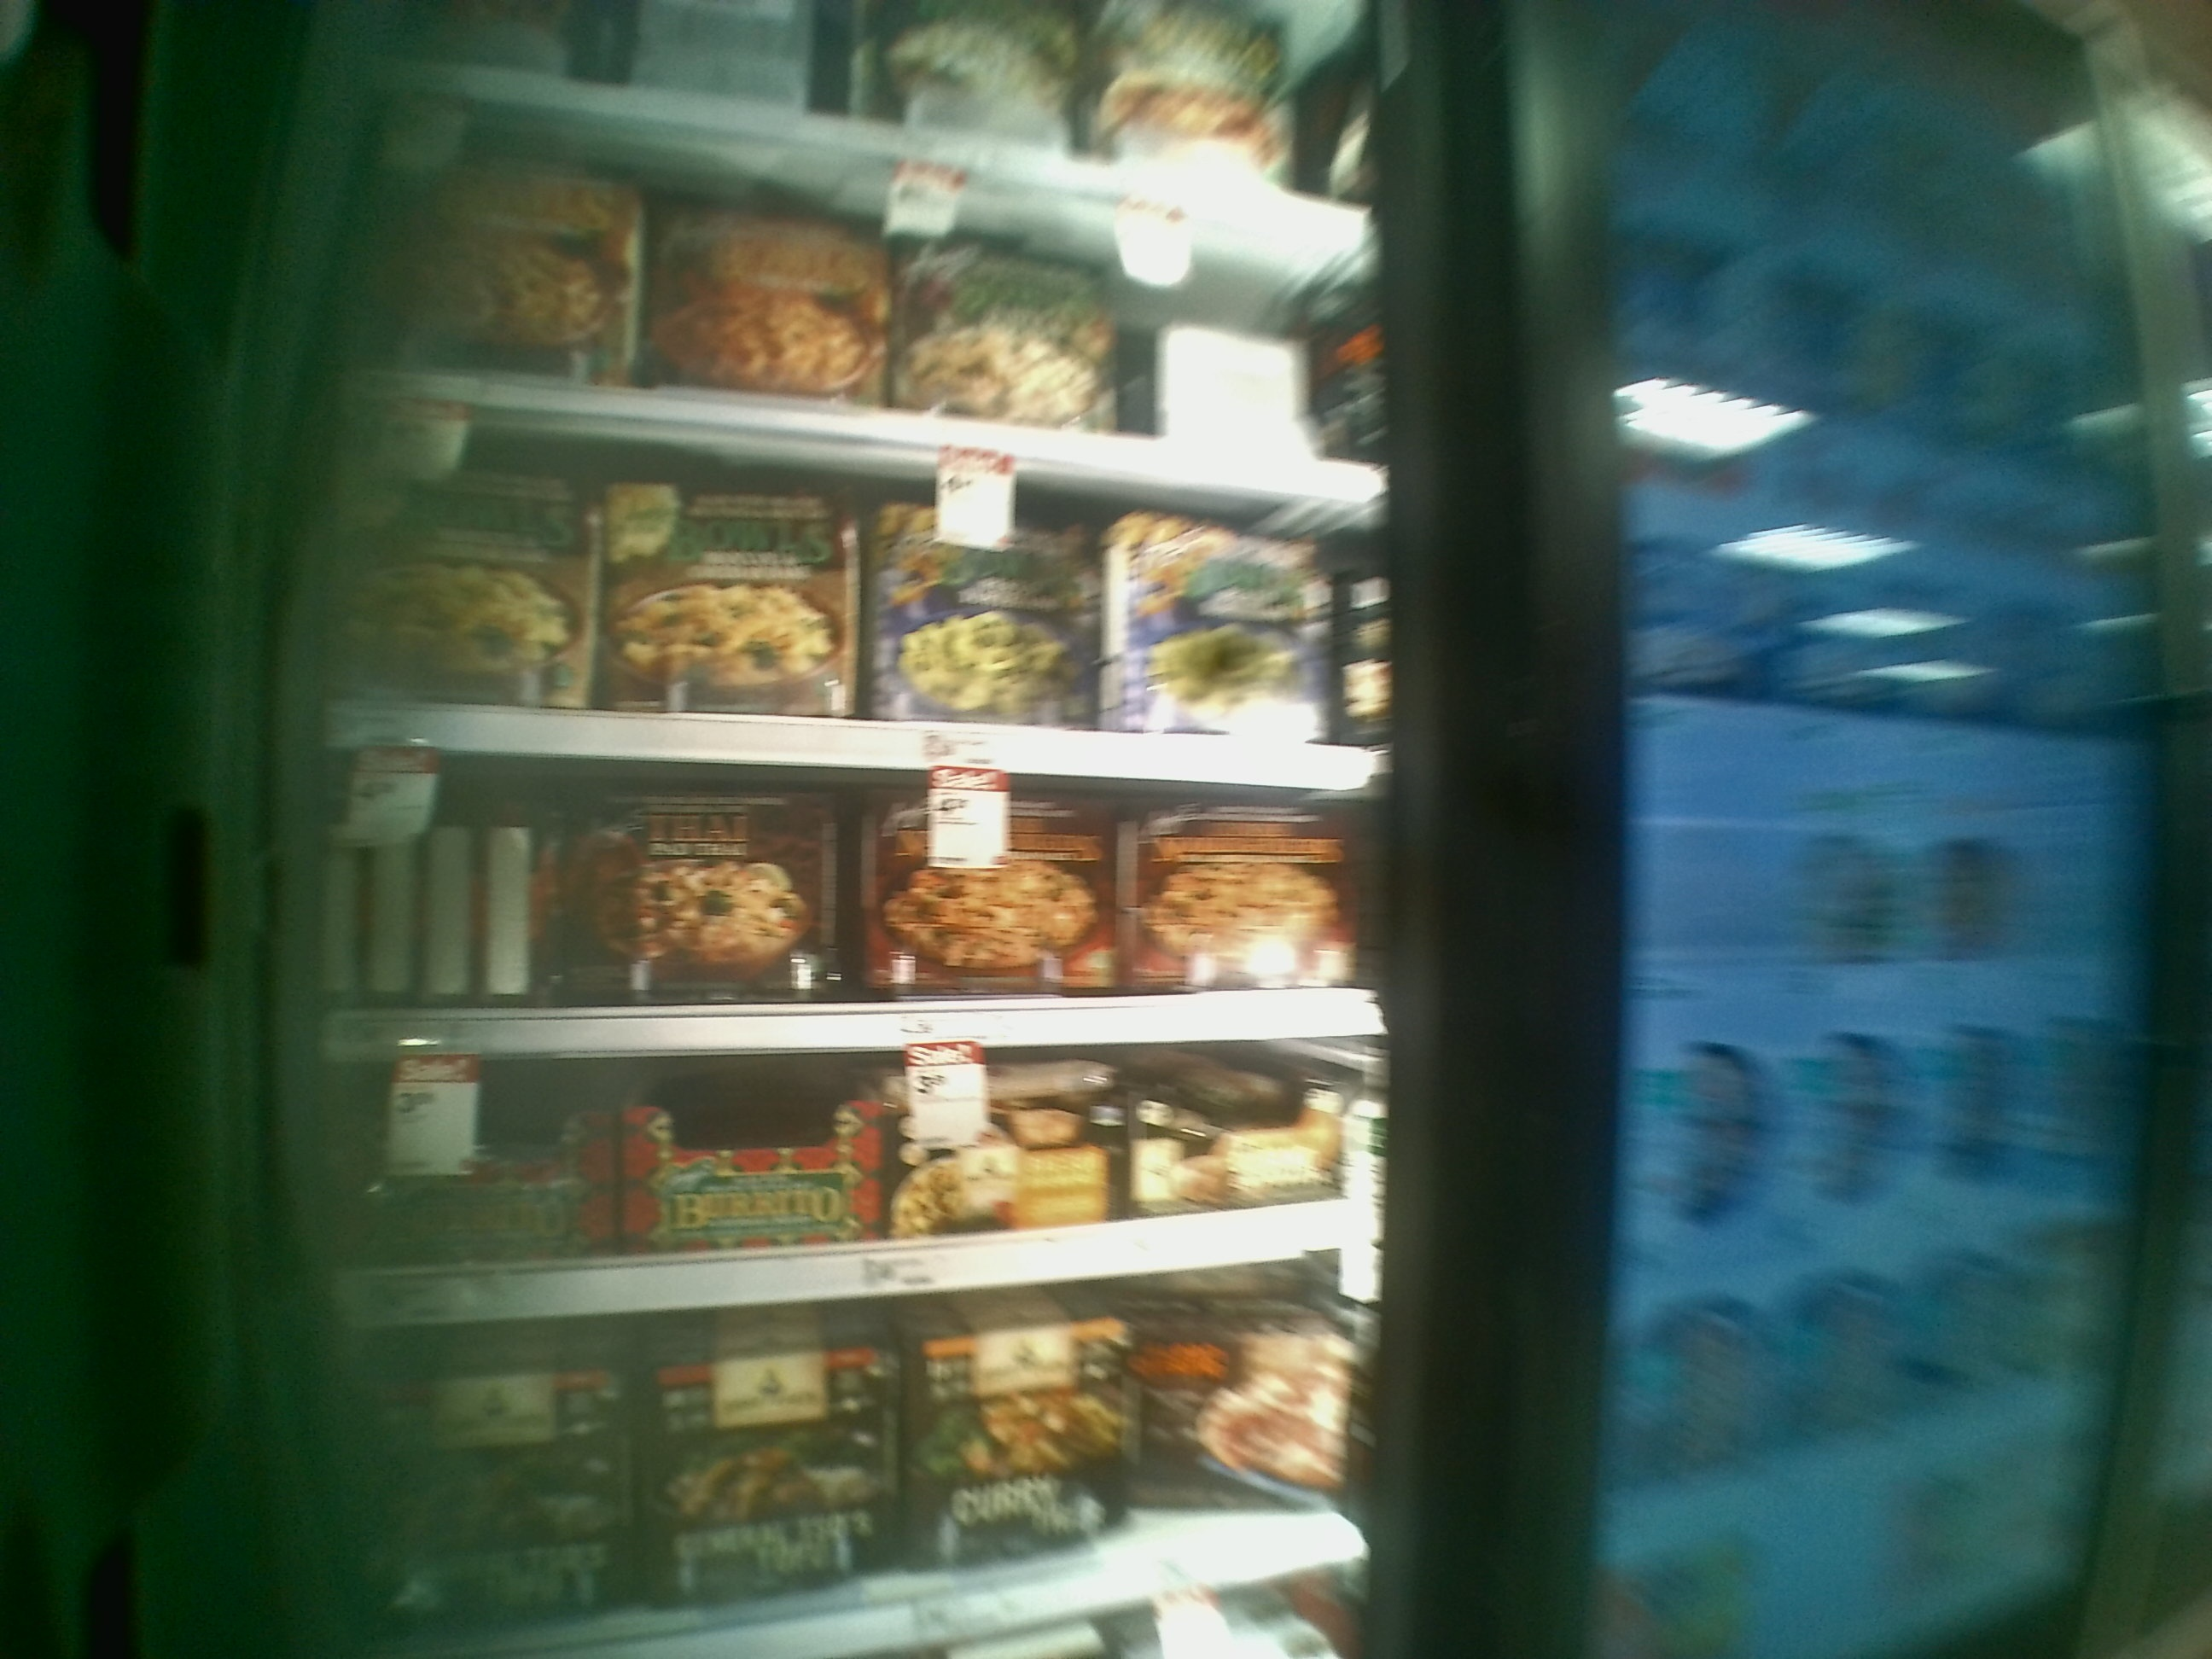frozen-food-shelf: (303, 422, 1406, 798), (298, 1075, 1420, 1344), (296, 802, 1395, 1073)
